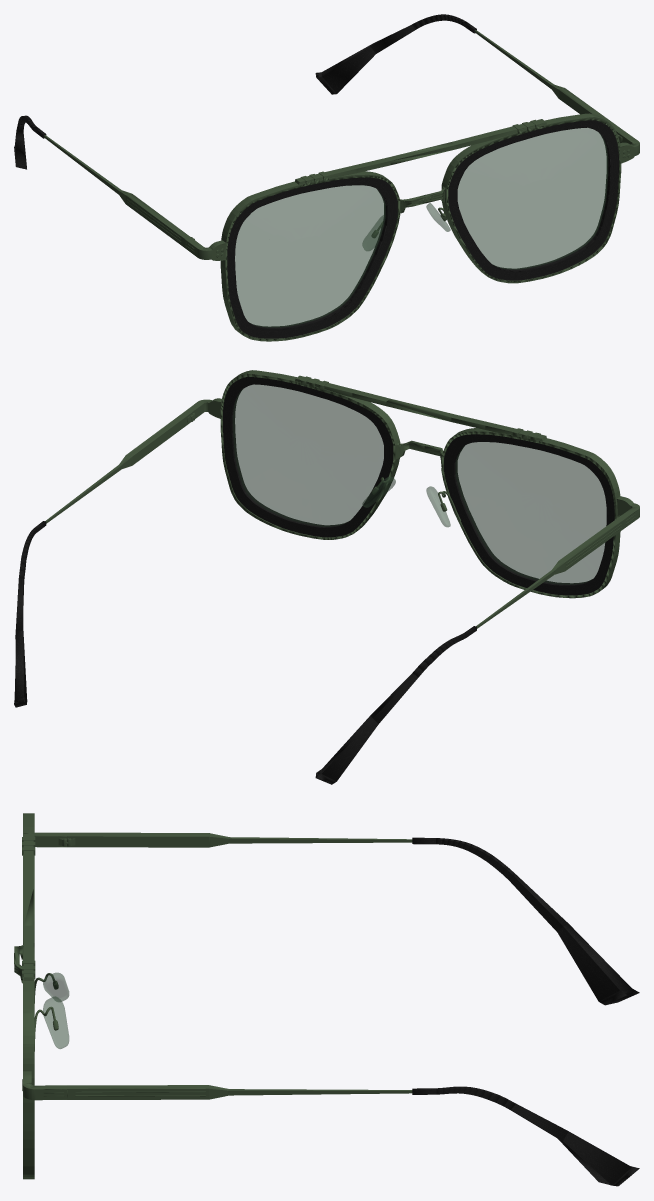
Rendered from aviator-pro-zeytin-yesili.glb.
3 renders of one model, top to bottom at view 1: azimuth 30°, elevation 25°; view 2: azimuth 150°, elevation 25°; view 3: azimuth 270°, elevation 25°, orthographic. The views are drawn at different scales.
Visible parts, largest first — view 1: OPTIK_PRODUCT_207; view 2: OPTIK_PRODUCT_207; view 3: OPTIK_PRODUCT_207.
Part boxes in pixels (x1,y1,x2,y2): OPTIK_PRODUCT_207: [14, 14, 639, 341]; OPTIK_PRODUCT_207: [14, 370, 639, 784]; OPTIK_PRODUCT_207: [14, 813, 639, 1186].
Size of the model in its own units: 0.1526 by 0.0523 by 0.1571.
5 materials, 1 textured.
